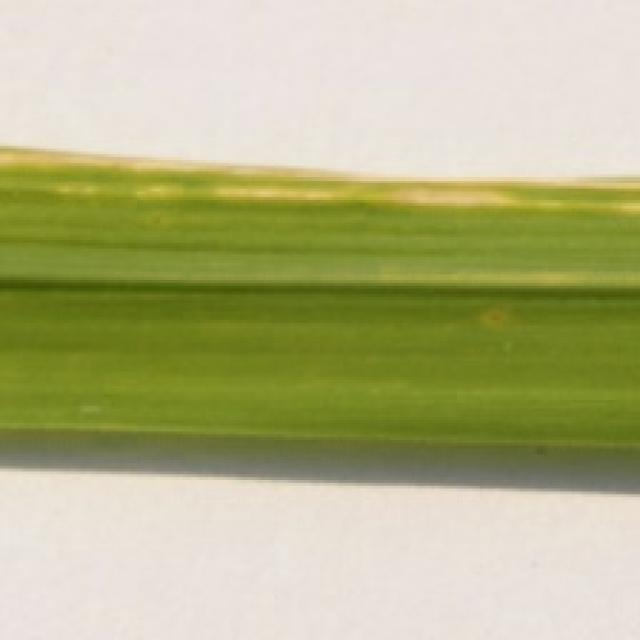Unhealthy: (0, 145, 640, 210), (131, 184, 183, 201), (51, 184, 102, 198), (610, 200, 640, 216)
